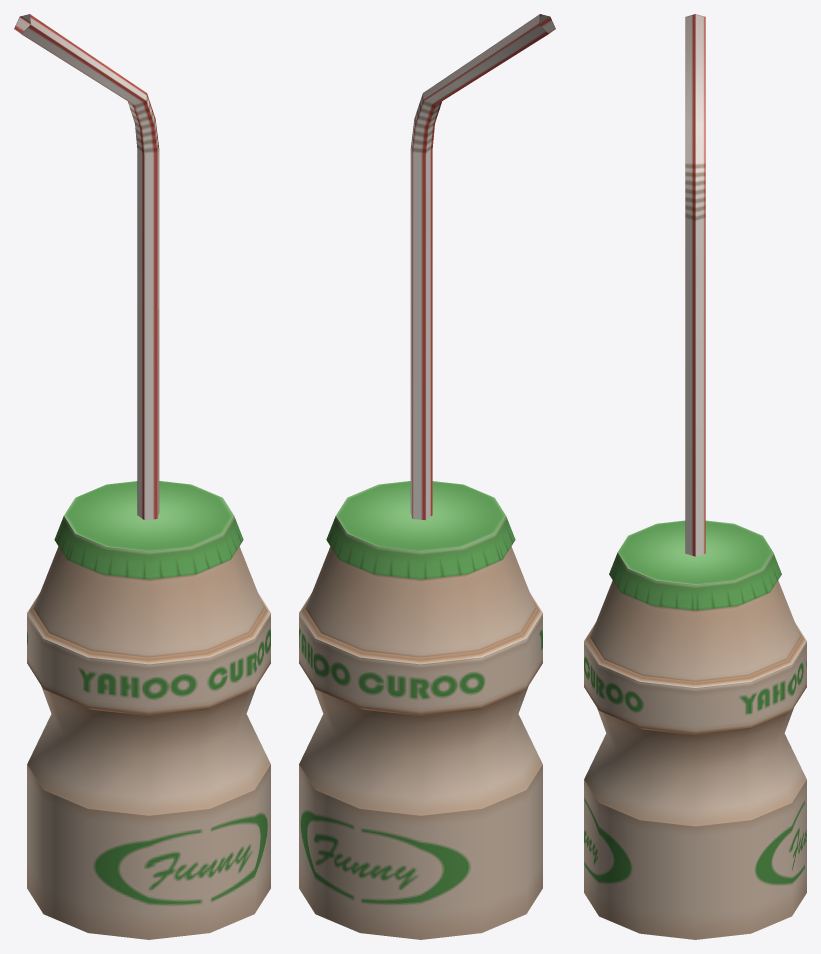
The model's file is drink_01.FBX.
The picture shows the model from 3 angles, left to right: view 1: azimuth 30°, elevation 25°; view 2: azimuth 150°, elevation 25°; view 3: azimuth 270°, elevation 25°; orthographic projection. The views are drawn at different scales.
Parts seen in each view (by area): view 1: drink_01, Cylinder003; view 2: drink_01, Cylinder003; view 3: drink_01, Cylinder003.
Boxes of the visible parts, box(x1,y1,x2,y2) form: drink_01: box(27, 481, 270, 939); Cylinder003: box(14, 14, 159, 520); drink_01: box(299, 481, 542, 939); Cylinder003: box(410, 14, 555, 520); drink_01: box(584, 520, 806, 939); Cylinder003: box(685, 14, 705, 556).
Bounding box in the file's own units: 1.12 × 4.09 × 1.
